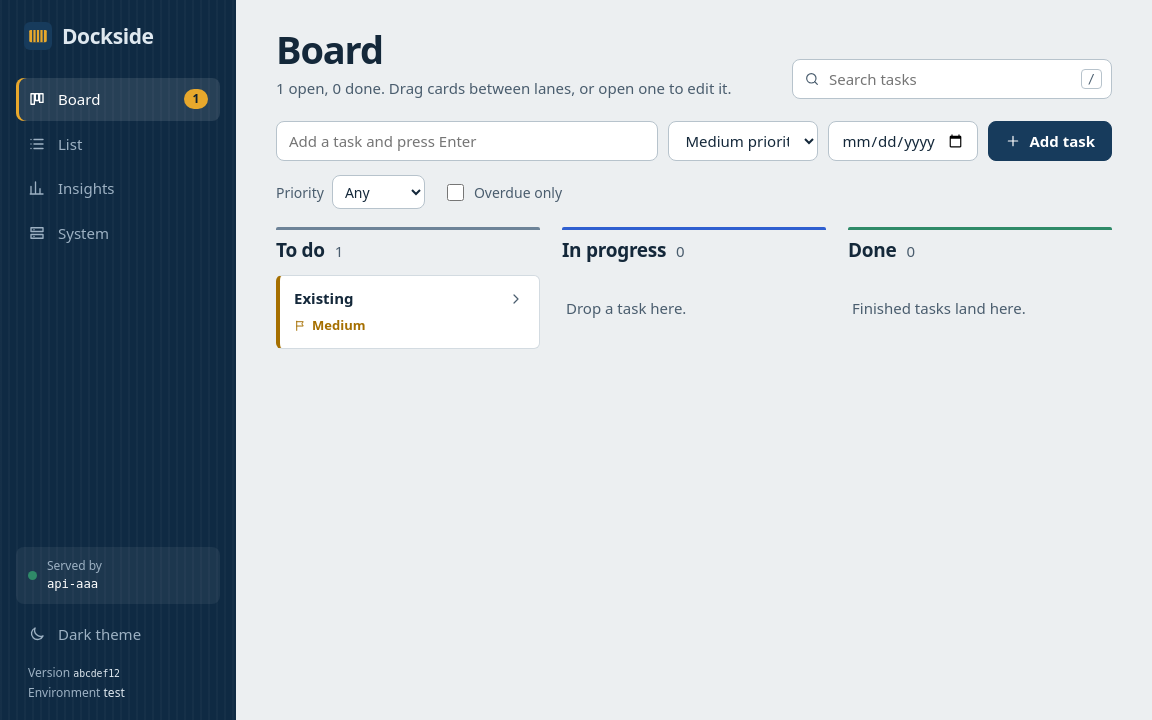
Test: board › asks for a title instead of sending an empty task
Expected: the button "Existing" is shown, [294,288,495,308]
Click the button "Add task". click: click(1050, 141)
box: [988,121,1112,161]
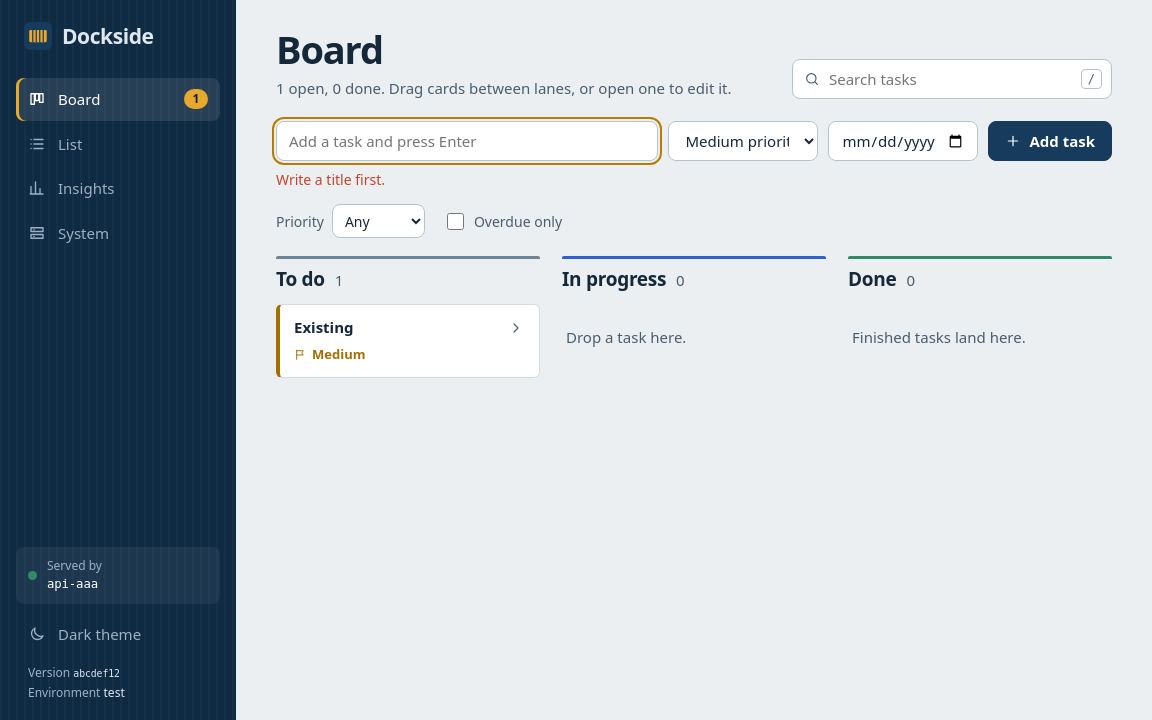
Now the message shows "Write a title", box [276,170,385,189]
